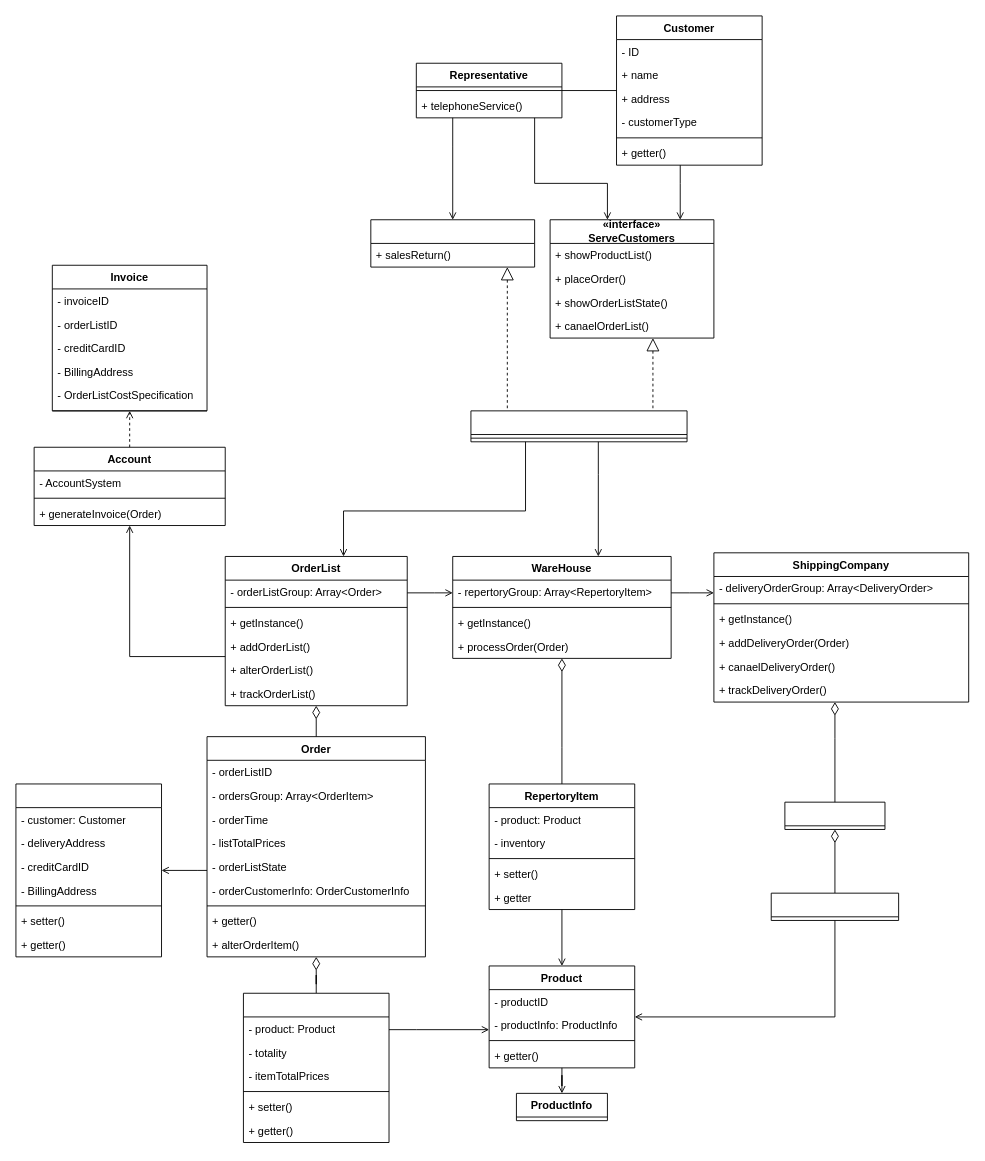
Image size: 985x1161. Some labels were removed from this diagram. The shapes that lost their labels are listed below. From the top down, each one's box as (x1, y1, x2, y2) in pixels, then its label:
(370, 219, 535, 267): «interface» AfterSalesService
(470, 410, 687, 442): Controller
(784, 801, 885, 829): DeliveryOrder
(15, 783, 162, 957): OrderCustomerInfo
(770, 892, 899, 920): DeliveryOrderItem
(243, 992, 389, 1143): OrderItem
